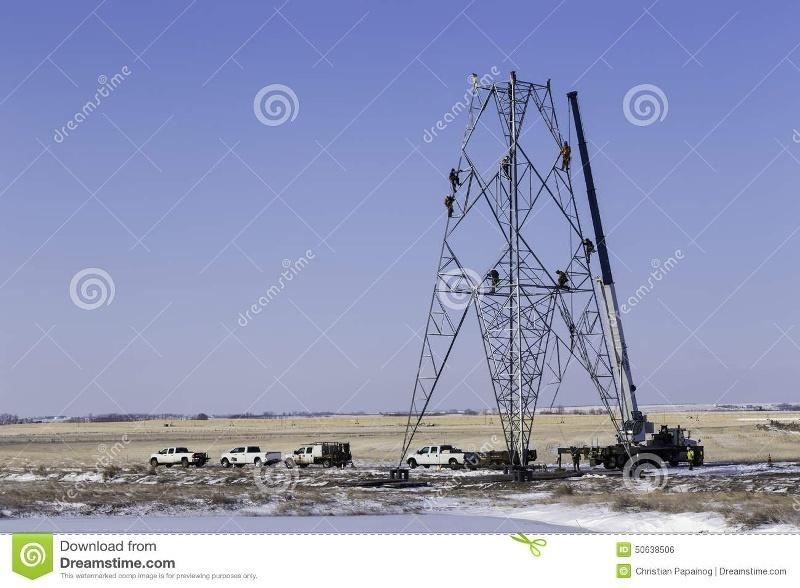power_tower: (431, 63, 633, 478)
